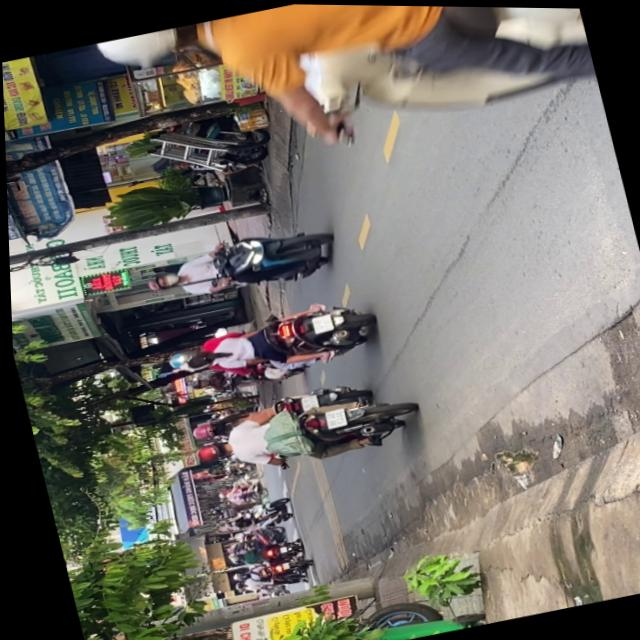helmet: (91, 18, 218, 80), (189, 438, 226, 462), (141, 268, 178, 291), (162, 346, 196, 370), (186, 417, 219, 439)
licenseplate: (182, 377, 420, 486), (156, 288, 381, 393), (134, 214, 339, 310), (179, 372, 371, 442)
motorcyclist: (177, 349, 213, 372)
nohelmet: (320, 405, 343, 427), (307, 311, 331, 331), (296, 392, 314, 409)
